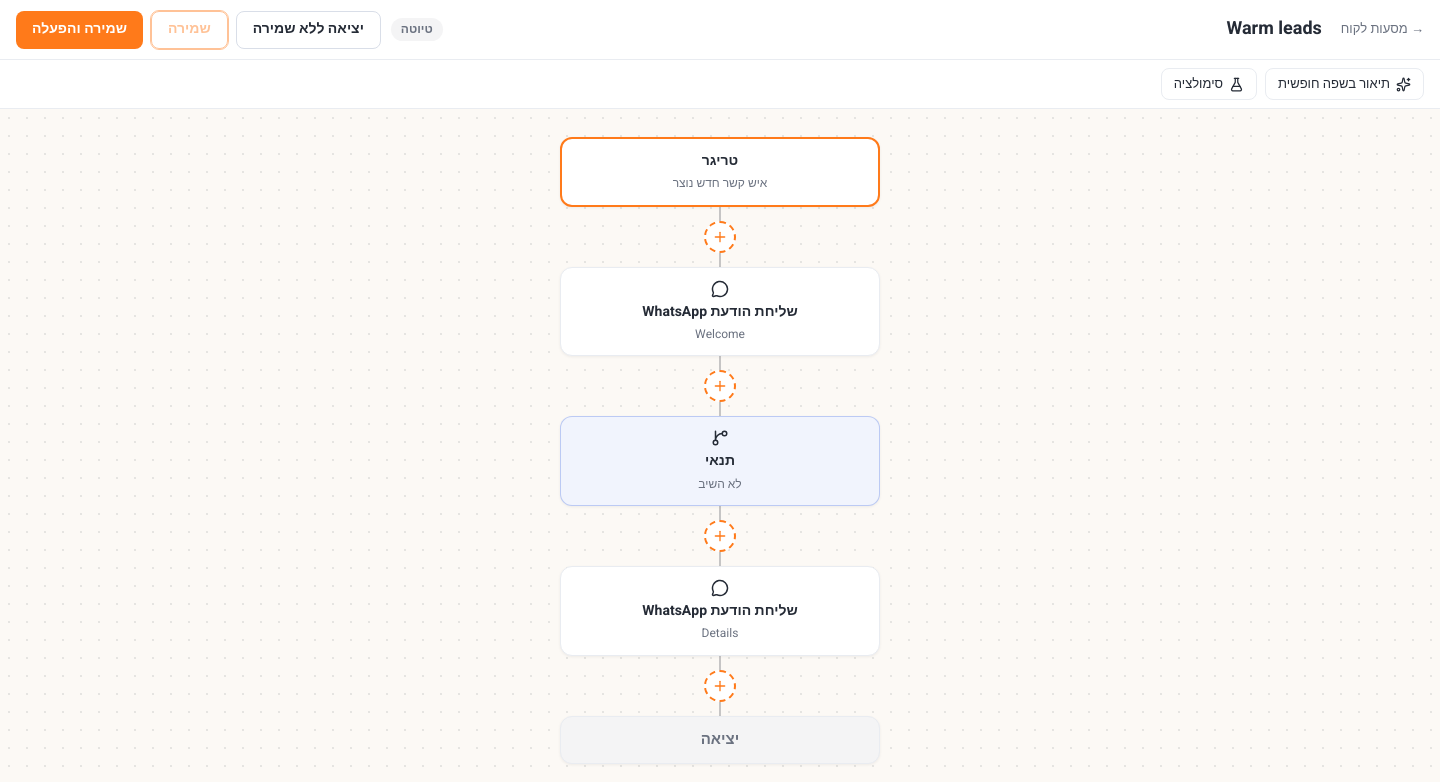
Test: invalidates a removed source instead of silently tracking a different message
Click the button with test id "journey-step-1" at (720, 461), box [560, 416, 880, 506]
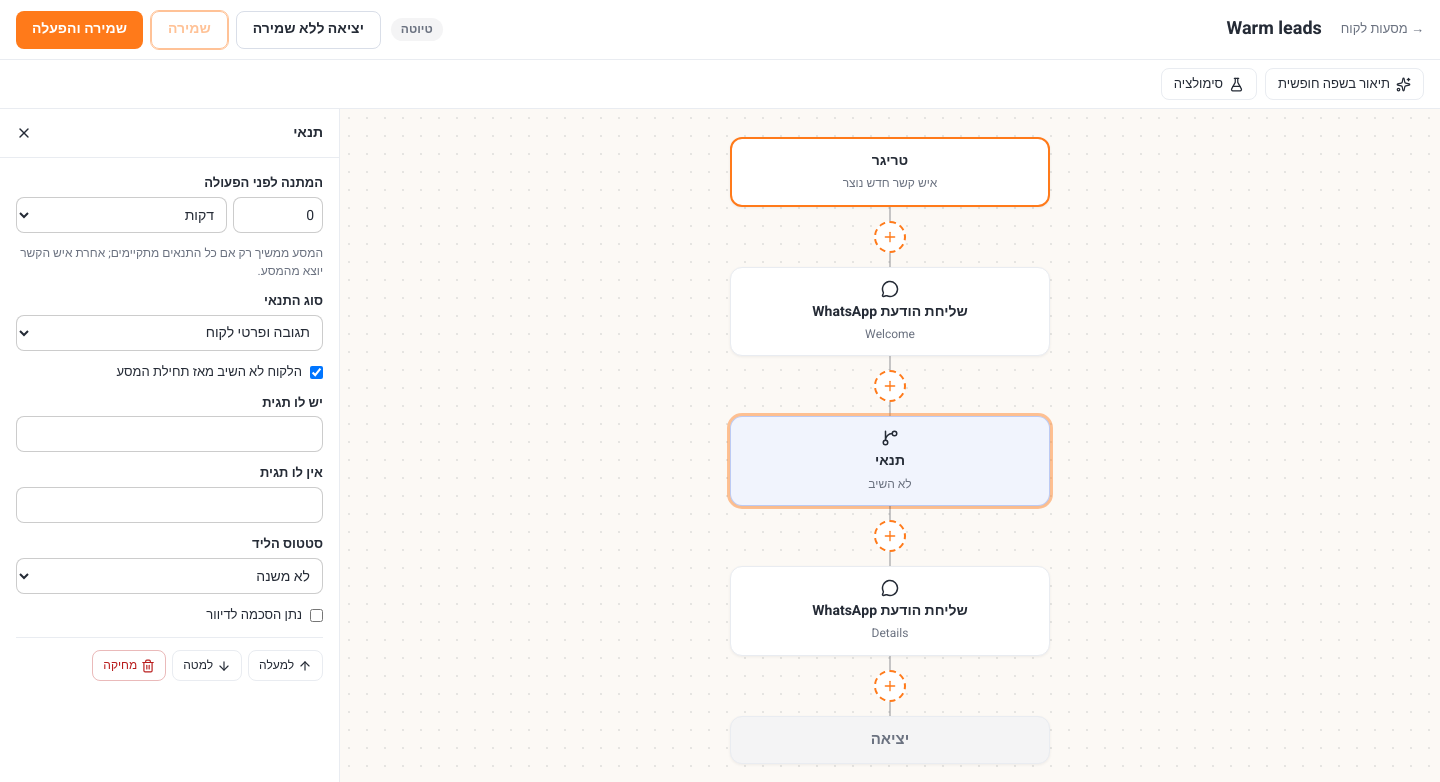
Select "לחץ על כפתור ב־WhatsApp" in the dropdown with test id "journey-condition-type" at (170, 333), box [16, 315, 323, 351]
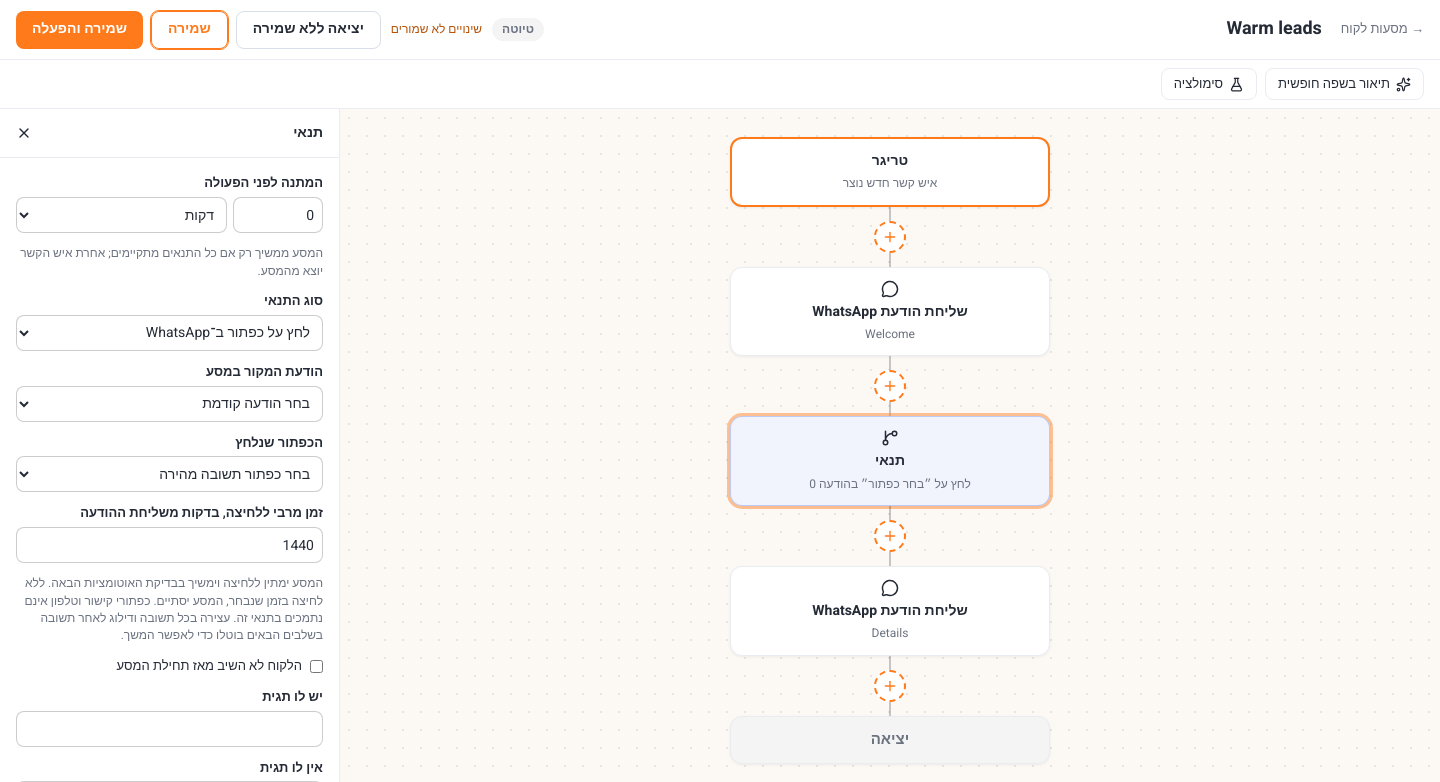
Select "1. Welcome" in the dropdown with test id "journey-button-source" at (170, 404), box [16, 386, 323, 422]
Select "Tell me more" in the dropdown with test id "journey-button-choice" at (170, 474), box [16, 456, 323, 492]
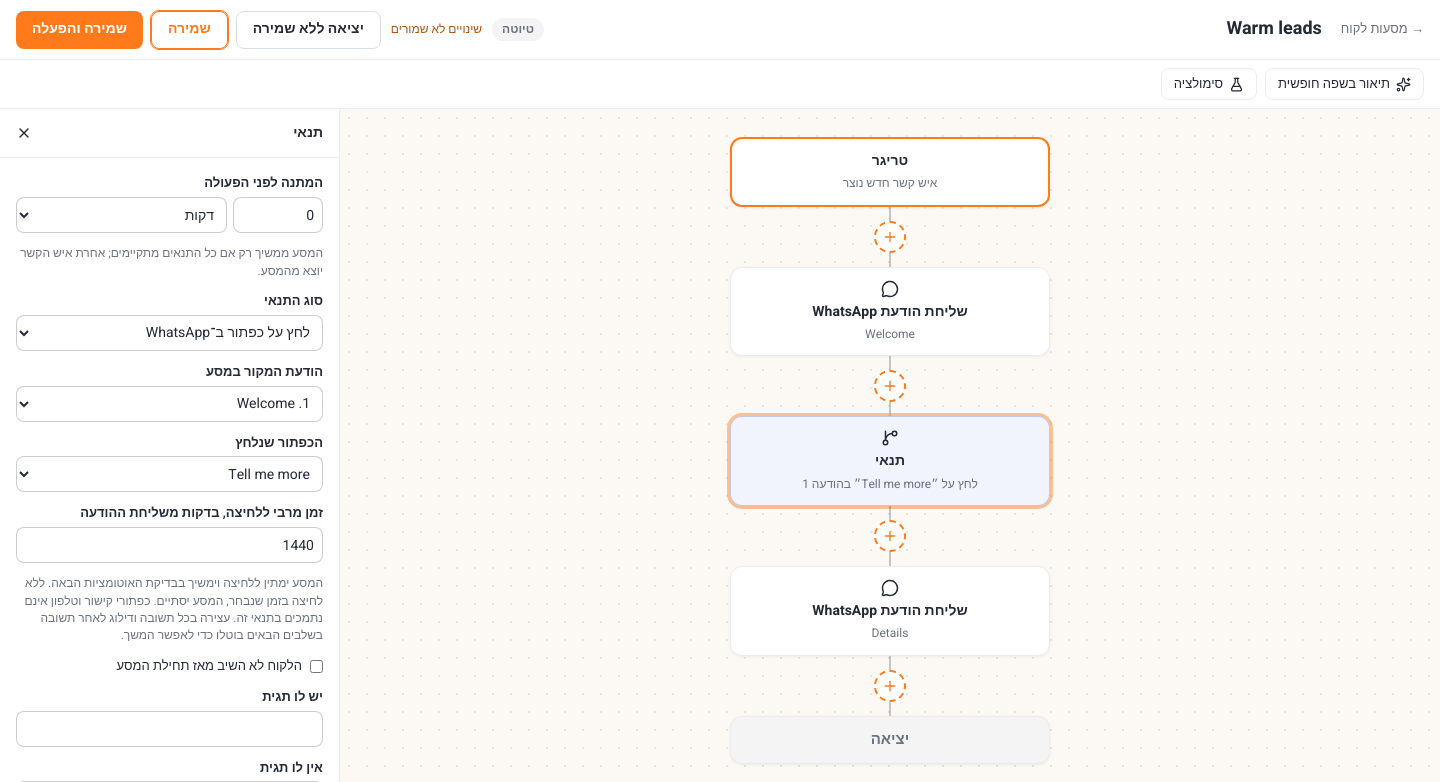
Click the button with test id "journey-step-0" at (890, 312), box [730, 267, 1050, 356]
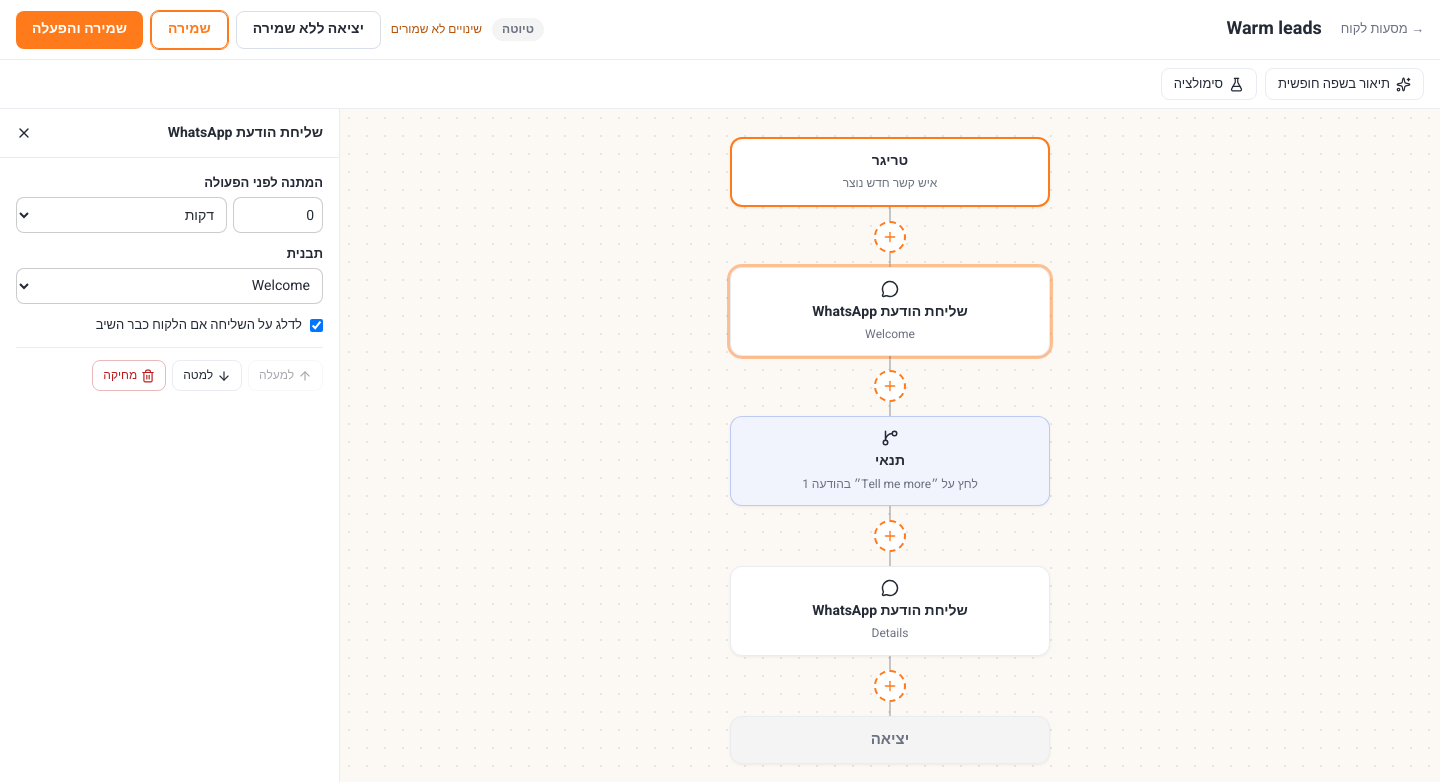
Click the button with test id "journey-step-delete" at (129, 376), box [92, 360, 166, 391]
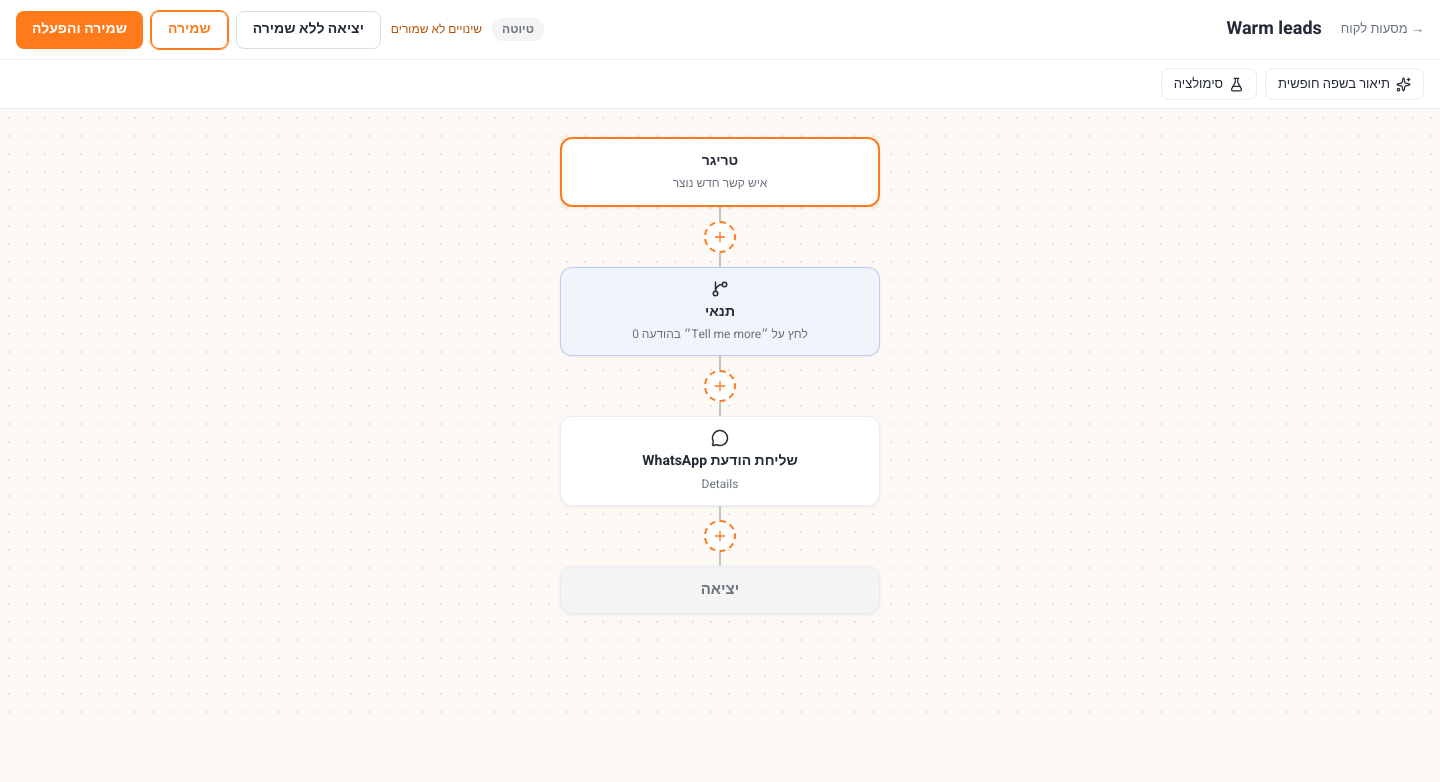
Click the button with test id "journey-step-0" at (720, 312), box [560, 267, 880, 356]
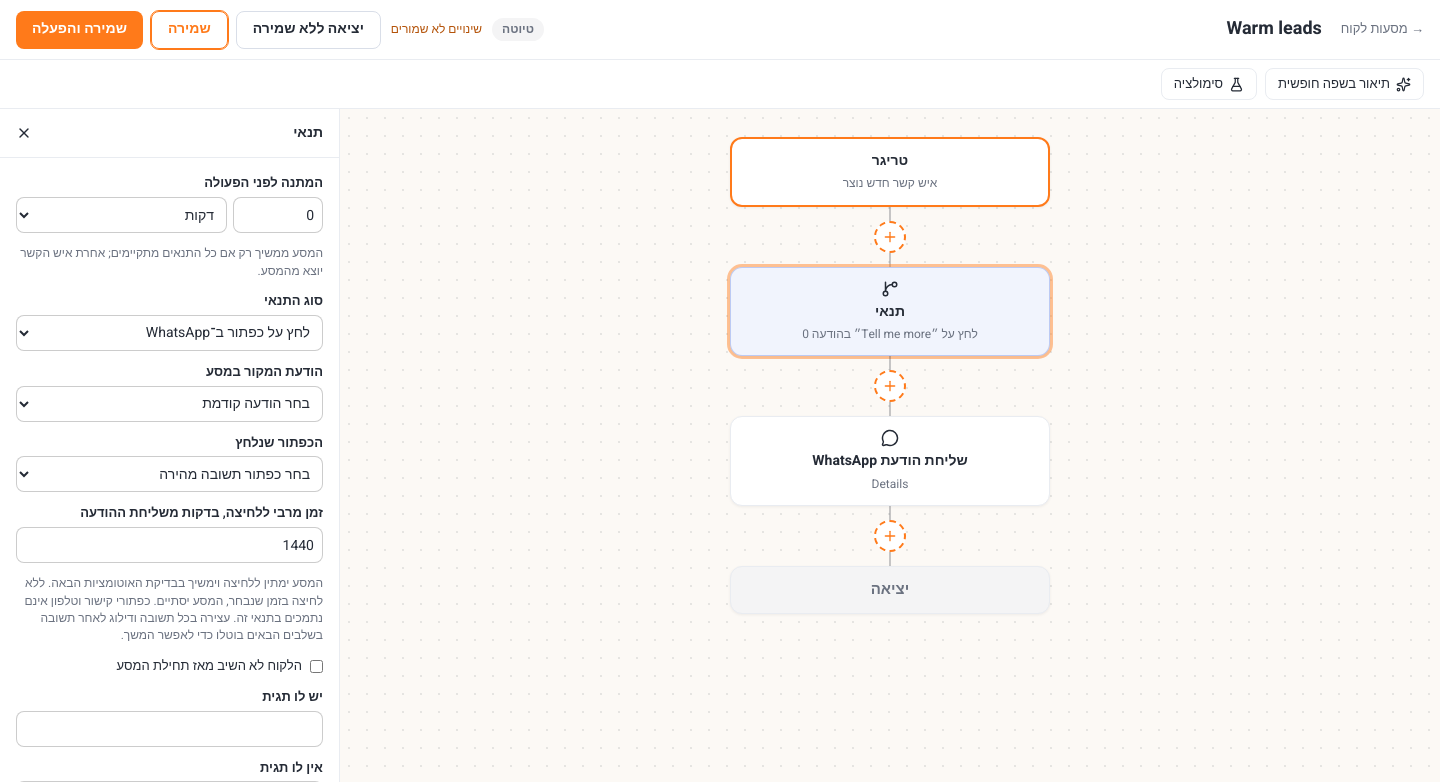
Check: the dropdown with test id "journey-button-source" shows "בחר הודעה קודמת", box [16, 386, 323, 422]
